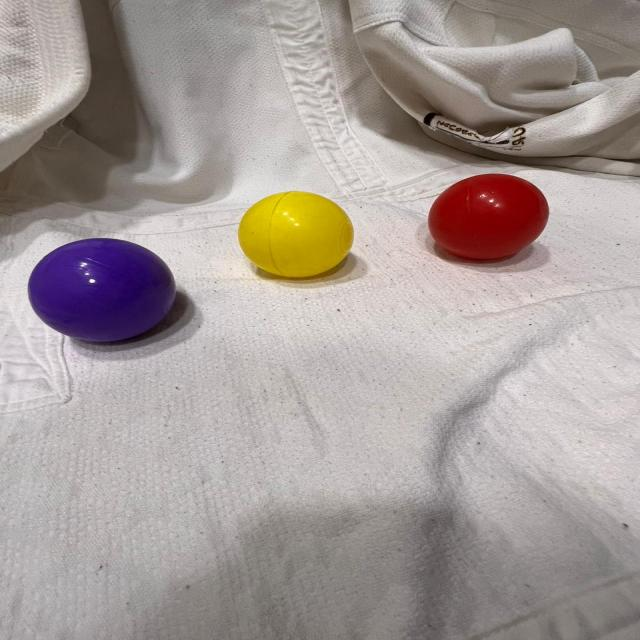ball: (24, 235, 180, 345), (424, 169, 552, 264), (235, 189, 358, 283)
